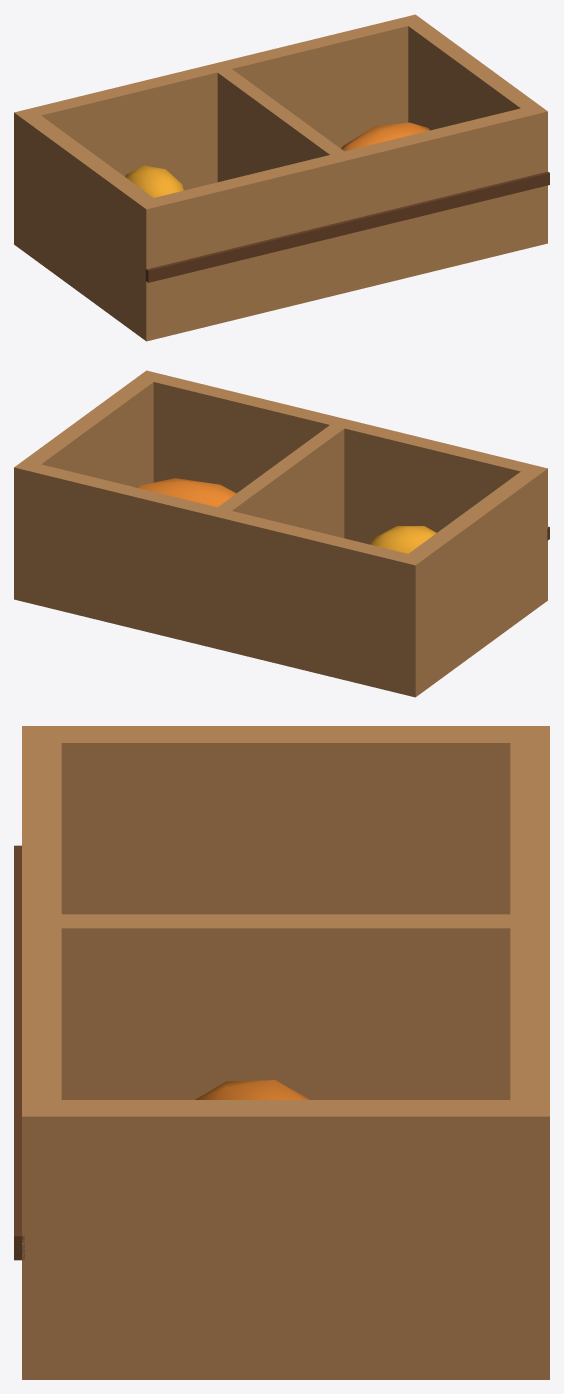
Rendered from decoracion-caja-mangos-papayas.glb.
3 views of the same model, one above another, from view 1: azimuth 30°, elevation 25°; view 2: azimuth 150°, elevation 25°; view 3: azimuth 270°, elevation 25° (orthographic). The views are drawn at different scales.
Visible parts, largest first — view 1: caja_mangos_papayas_MaderaCajon, caja_mangos_papayas_MaderaOscura, caja_mangos_papayas_FrutaMango, caja_mangos_papayas_FrutaPapaya; view 2: caja_mangos_papayas_MaderaCajon, caja_mangos_papayas_FrutaPapaya, caja_mangos_papayas_FrutaMango; view 3: caja_mangos_papayas_MaderaCajon, caja_mangos_papayas_MaderaOscura, caja_mangos_papayas_FrutaPapaya.
Boxes of the visible parts, x1,y1,x2,y2 form: caja_mangos_papayas_MaderaCajon: [14, 14, 547, 341]; caja_mangos_papayas_MaderaOscura: [145, 171, 549, 282]; caja_mangos_papayas_FrutaMango: [125, 165, 183, 197]; caja_mangos_papayas_FrutaPapaya: [341, 122, 429, 151]; caja_mangos_papayas_MaderaCajon: [14, 370, 547, 697]; caja_mangos_papayas_FrutaPapaya: [135, 478, 236, 507]; caja_mangos_papayas_FrutaMango: [370, 526, 436, 553]; caja_mangos_papayas_MaderaCajon: [22, 726, 549, 1379]; caja_mangos_papayas_MaderaOscura: [14, 845, 24, 1260]; caja_mangos_papayas_FrutaPapaya: [195, 1080, 309, 1099].
Bounding box in the file's own units: 0.7 × 0.22 × 0.406.
